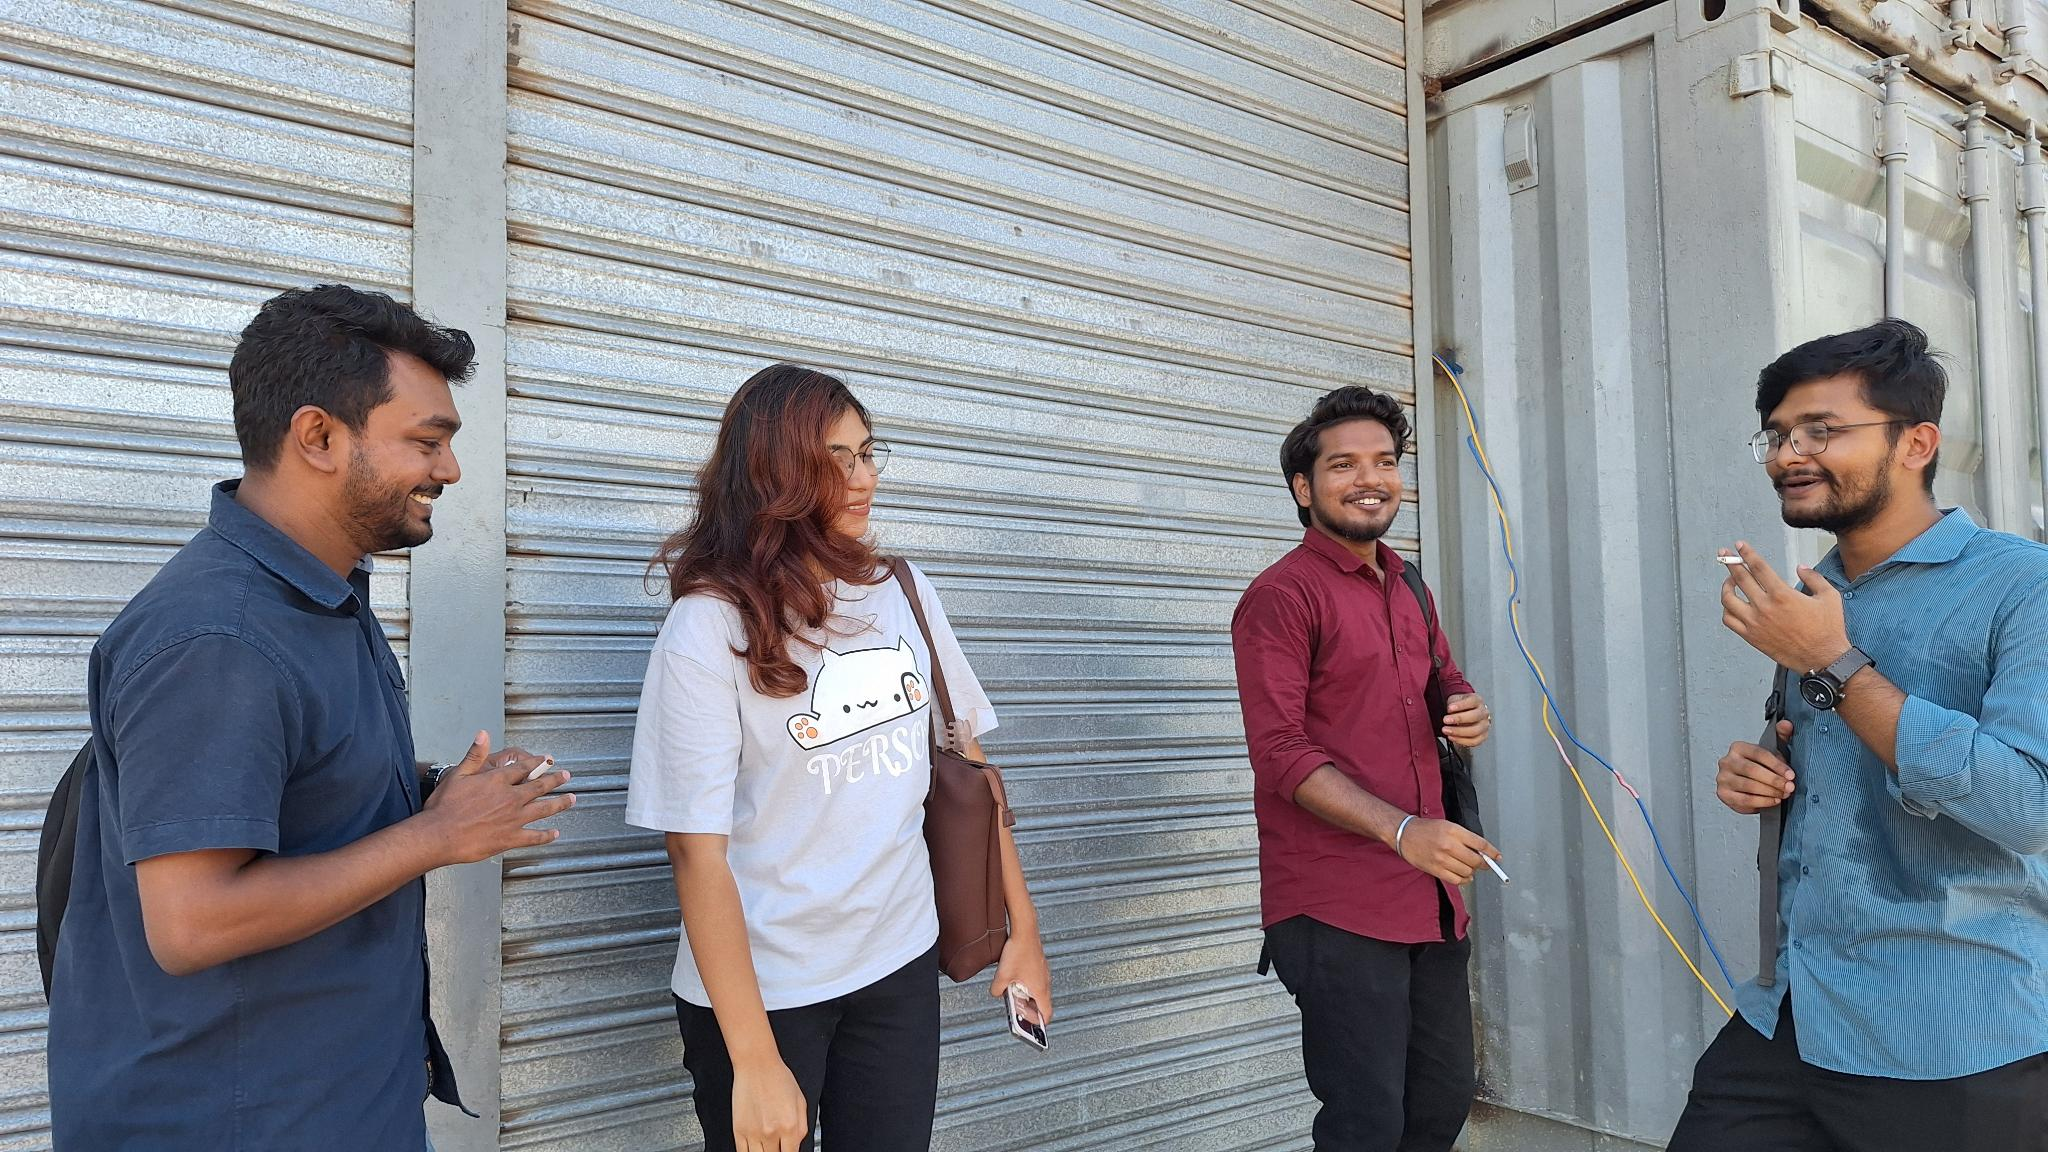cigarette: (1476, 848, 1512, 886), (520, 757, 556, 788), (1712, 554, 1746, 567)
nonSmoker: (625, 364, 1052, 1152)
smoker: (35, 287, 574, 1152), (1663, 316, 2047, 1152), (1229, 385, 1504, 1152)
